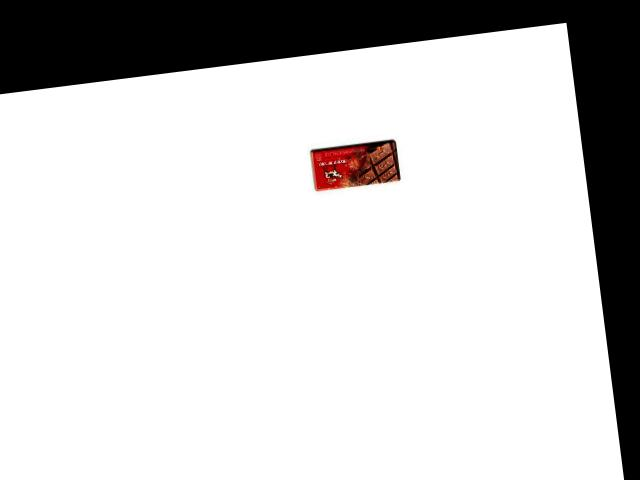chocolate: (308, 137, 403, 193)
